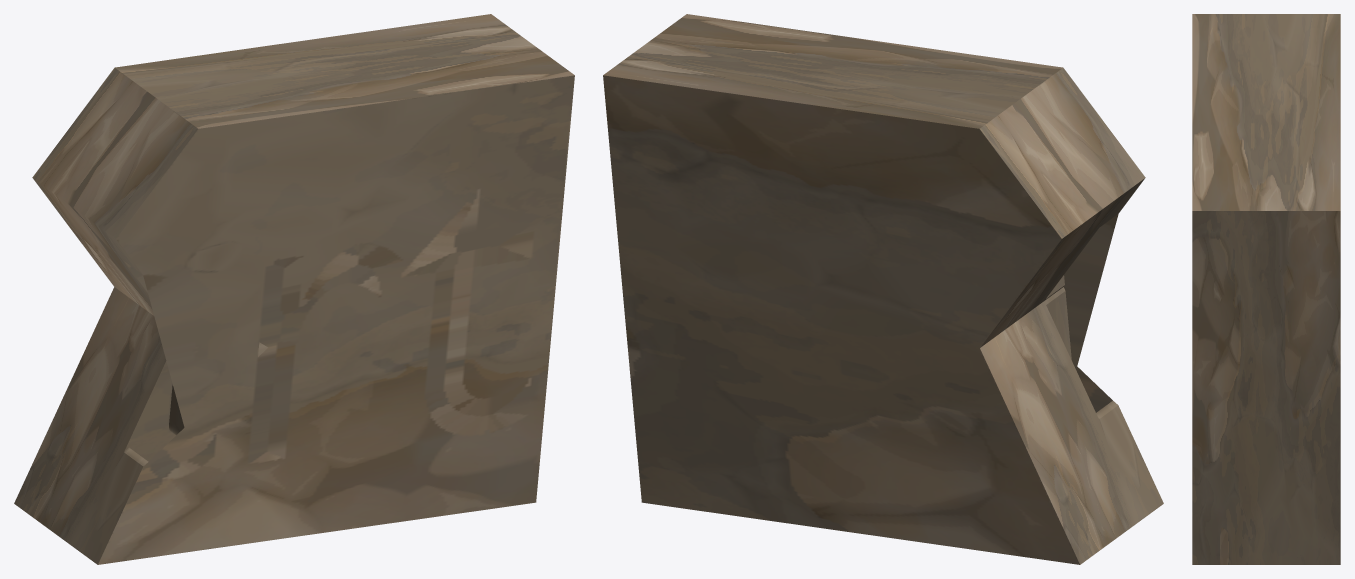
Rendered from Start (Broken) 2.fbx.
3 renders of one model, left to right at view 1: azimuth 30°, elevation 25°; view 2: azimuth 150°, elevation 25°; view 3: azimuth 270°, elevation 25°, orthographic. The views are drawn at different scales.
Visible parts, largest first — view 1: Cube.002; view 2: Cube.002; view 3: Cube.002.
Part boxes in pixels (left/top/right/bottom): Cube.002: left=14, top=14, right=574, bottom=564; Cube.002: left=603, top=14, right=1163, bottom=564; Cube.002: left=1192, top=14, right=1340, bottom=564.
Size of the model in its own units: 112 by 103 by 34.14.
